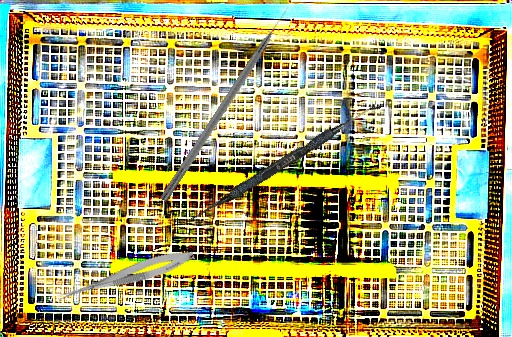Hook Surgical: (159, 5, 295, 204)
Micro Scissor: (55, 244, 197, 310)
Spatula Surgical: (189, 95, 383, 228)
